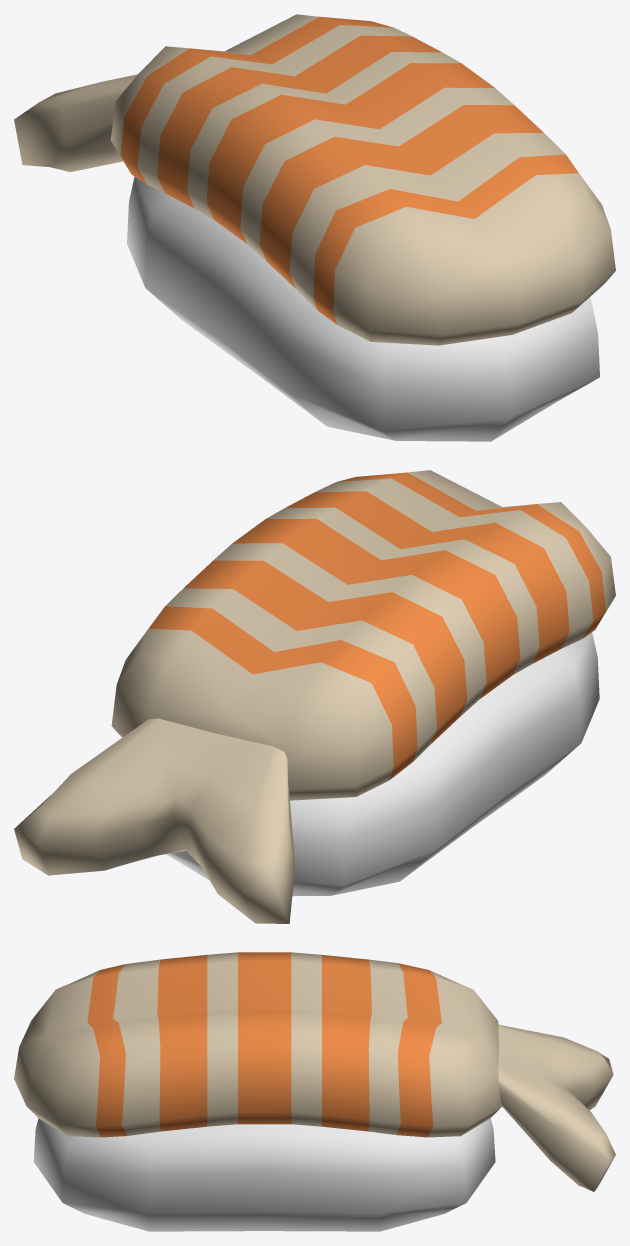
File: Food_EbiNigiri.fbx
The picture shows the model from 3 angles, top to bottom: view 1: azimuth 30°, elevation 25°; view 2: azimuth 150°, elevation 25°; view 3: azimuth 270°, elevation 25°; orthographic projection. The views are drawn at different scales.
Parts seen in each view (by area): view 1: Food_EbiNigiri; view 2: Food_EbiNigiri; view 3: Food_EbiNigiri.
Part boxes in pixels (left/top/right/bottom): Food_EbiNigiri: left=14, top=14, right=615, bottom=441; Food_EbiNigiri: left=14, top=470, right=615, bottom=923; Food_EbiNigiri: left=14, top=952, right=615, bottom=1231.
Size of the model in its own units: 34.56 by 30.59 by 78.2.
